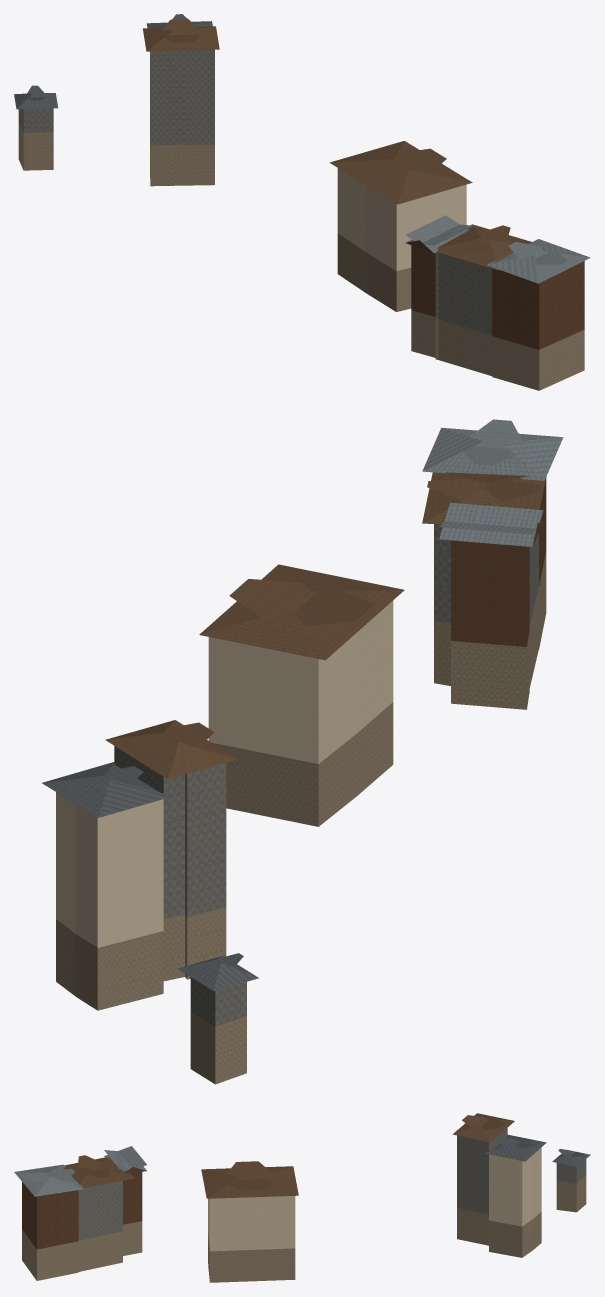
File: bld_c32_46_241.gltf
3 views of the same model, one above another, from view 1: azimuth 30°, elevation 25°; view 2: azimuth 150°, elevation 25°; view 3: azimuth 270°, elevation 25° (orthographic). The views are drawn at different scales.
Parts seen in each view (by area): view 1: bld_c32_46_241; view 2: bld_c32_46_241; view 3: bld_c32_46_241.
Boxes of the visible parts, <box> form: bld_c32_46_241: <box>14,14,590,390</box>; bld_c32_46_241: <box>42,419,563,1084</box>; bld_c32_46_241: <box>14,1113,590,1282</box>.
Bounding box in the file's own units: 29.71 × 19.7 × 84.97.
8 materials, 8 textured.
